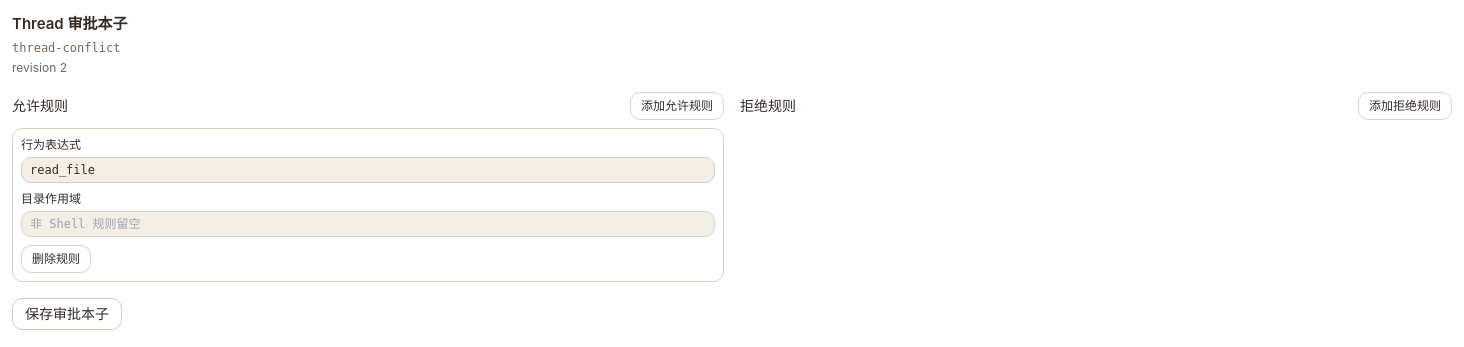
Test case: ThreadPermissionsManager › PUT 返回 409 时保留草稿并展示冲突与重新加载入口
Replace the text in the field named "allow expression 1" with "list_dir": (368, 170) x1=21 y1=157 x2=715 y2=183
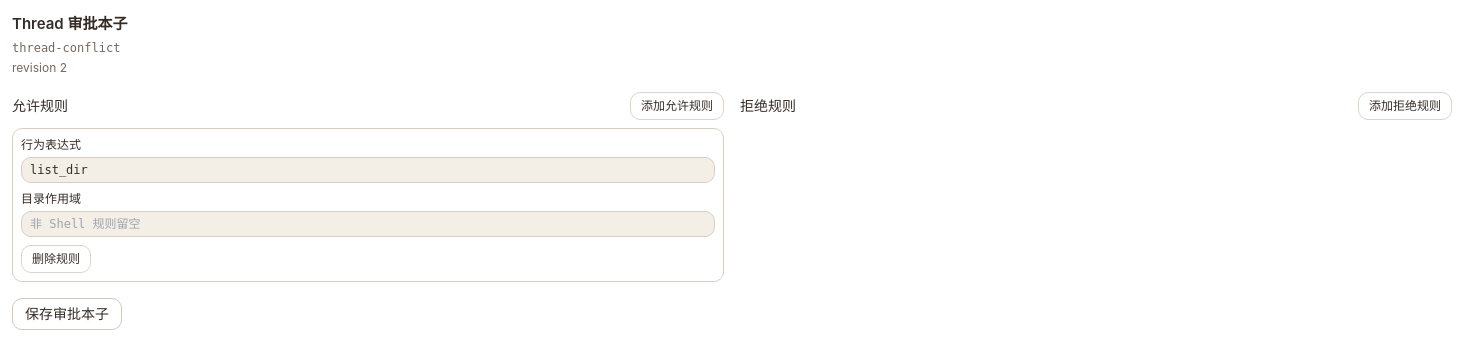
Click the button "保存审批本子": (67, 314) x1=12 y1=298 x2=122 y2=330
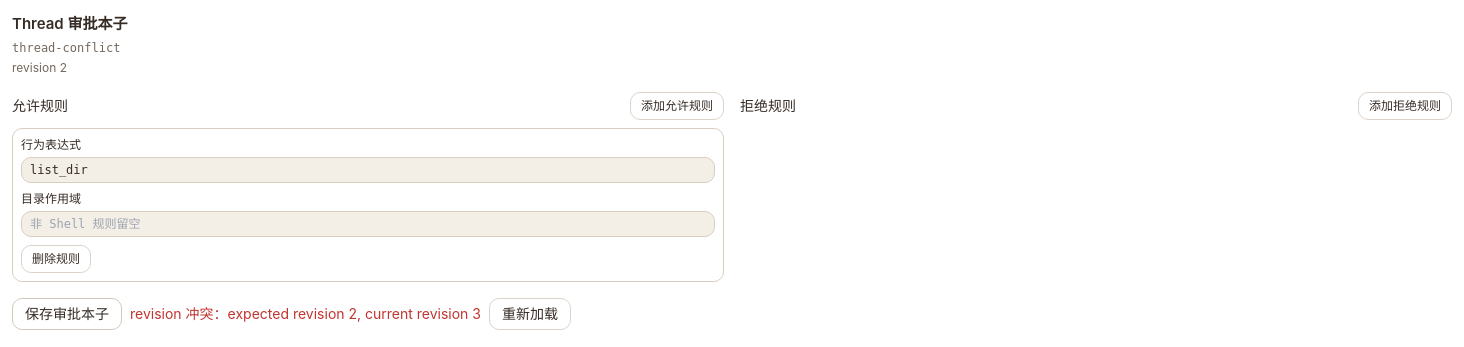
Check: the message shows "revision 冲突", box x1=130 y1=305 x2=228 y2=322
Check: the button "重新加载" is shown, box x1=489 y1=298 x2=571 y2=330
